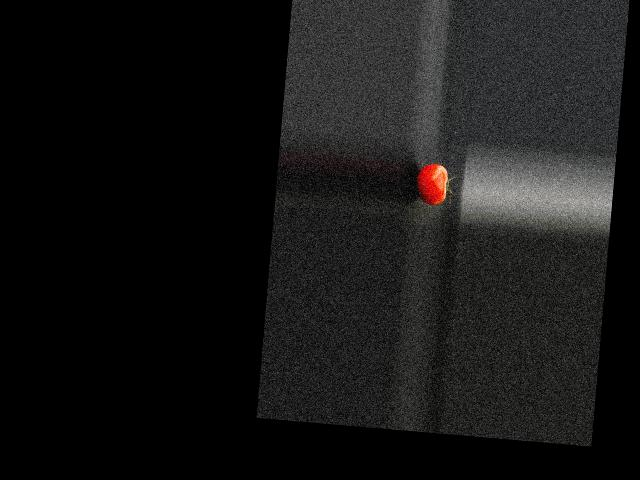tomato: (414, 161, 448, 205)
